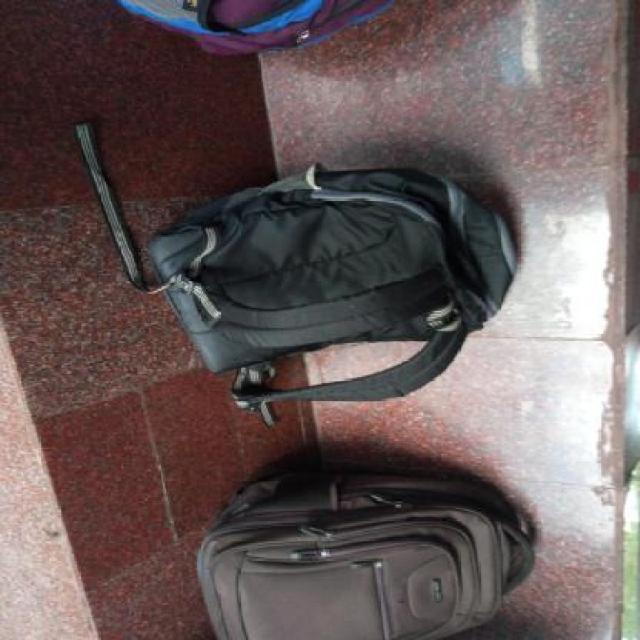backpack: (135, 158, 520, 428), (192, 463, 537, 640)
